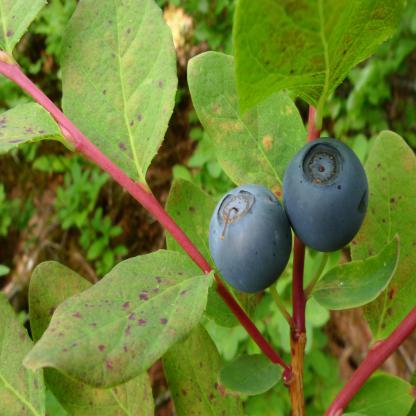blueberry leaf: (25, 243, 215, 380), (60, 0, 188, 194), (180, 45, 304, 184)
